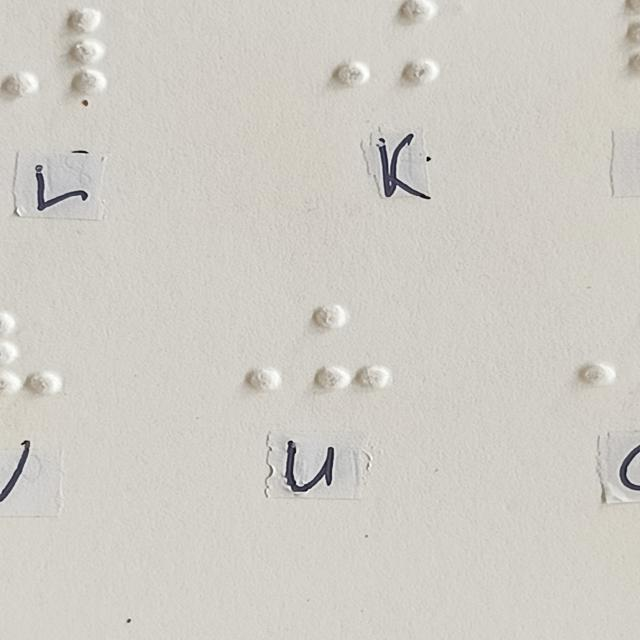capital_sign: (205, 307, 285, 394), (294, 0, 373, 86)
letter_K: (397, 0, 476, 86)
letter_U: (313, 304, 392, 390)
letter_l: (67, 6, 137, 95)
